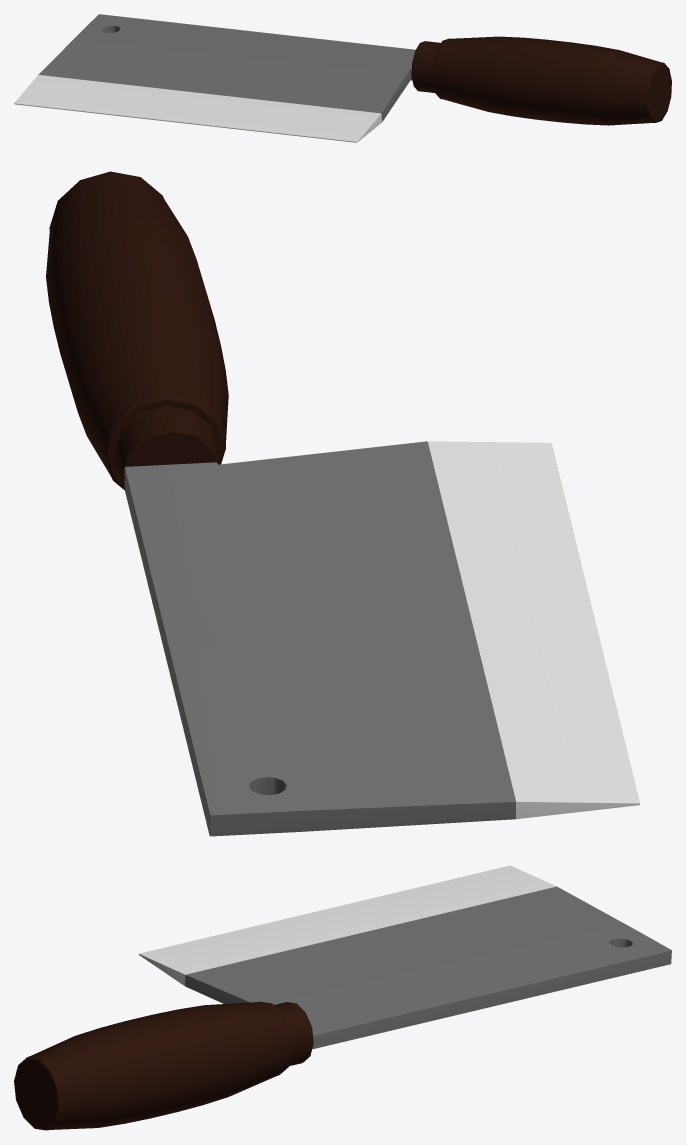
The model's file is Satır.fbx.
3 renders of one model, top to bottom at view 1: azimuth 30°, elevation 25°; view 2: azimuth 150°, elevation 25°; view 3: azimuth 270°, elevation 25°, orthographic. The views are drawn at different scales.
Parts seen in each view (by area): view 1: knife; view 2: knife; view 3: knife.
Part boxes in pixels (x1,y1,x2,y2): knife: (14,14,671,142); knife: (46,171,639,836); knife: (14,865,671,1130).
Size of the model in its own units: 297 by 46.07 by 286.
